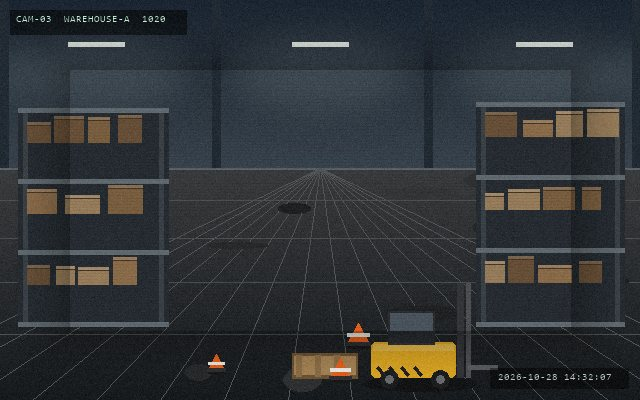cone: (345, 321, 371, 348), (328, 356, 352, 382), (206, 352, 226, 374)
forklift: (367, 281, 499, 391)
pallet: (290, 351, 359, 380)
shelf: (476, 102, 624, 322), (18, 108, 168, 322)
